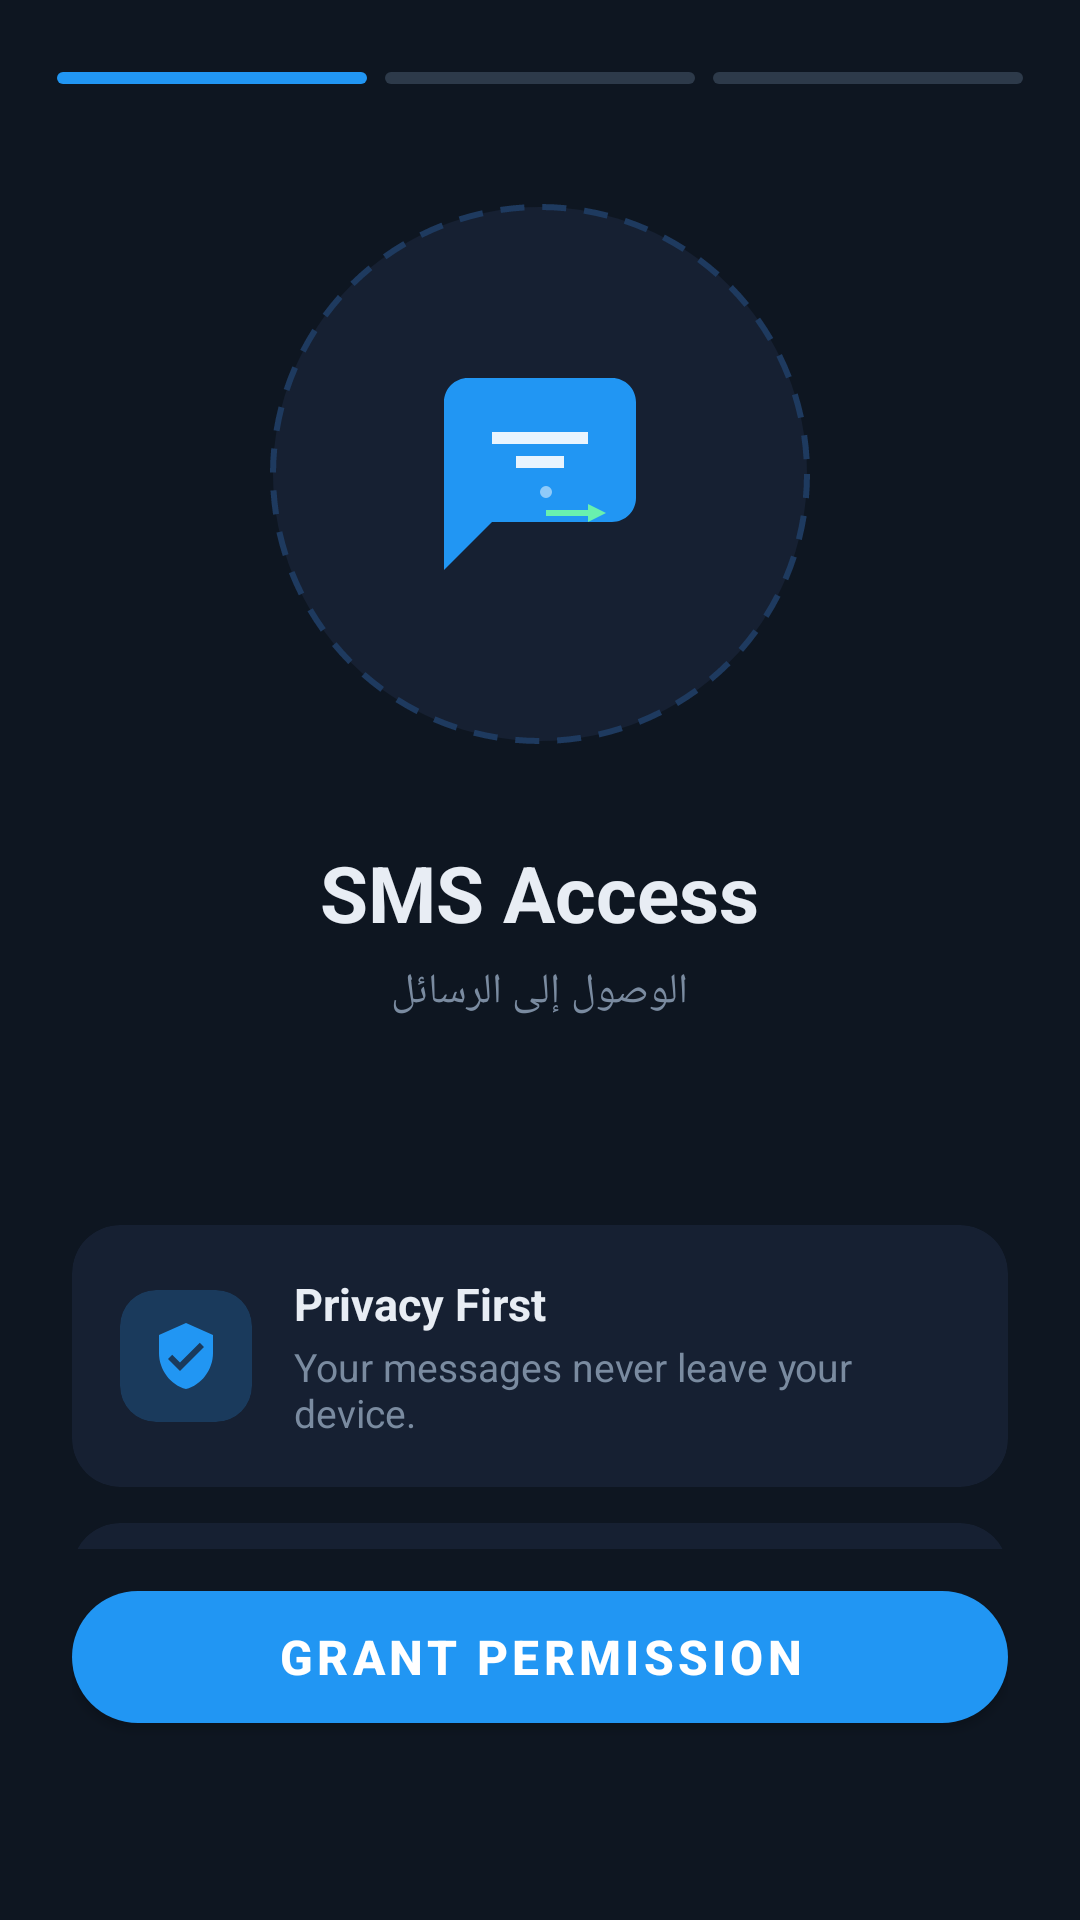

Locate icon controls on the screen. Image size 1080px×1920px, boxes as bbox=(x1, y1, x2, y2).
onb sms: bbox=(444, 378, 636, 570)
shield: bbox=(159, 1323, 213, 1389)
